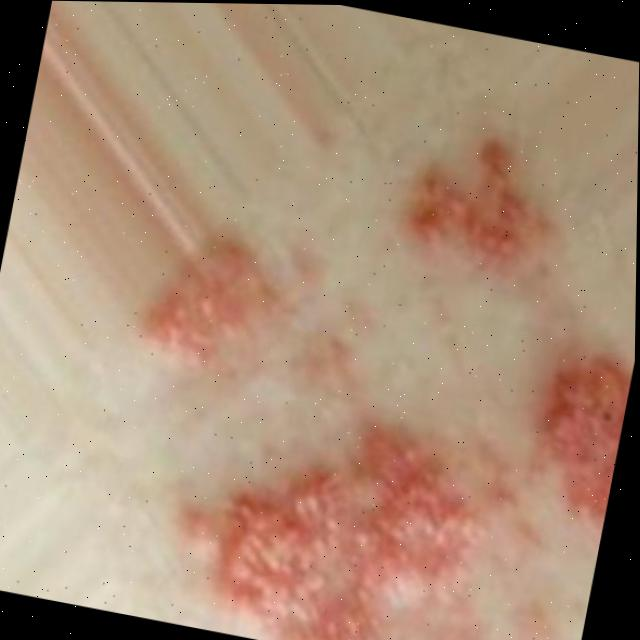Shingles: (159, 390, 502, 640), (382, 123, 540, 274), (132, 230, 274, 378), (522, 348, 634, 523)
